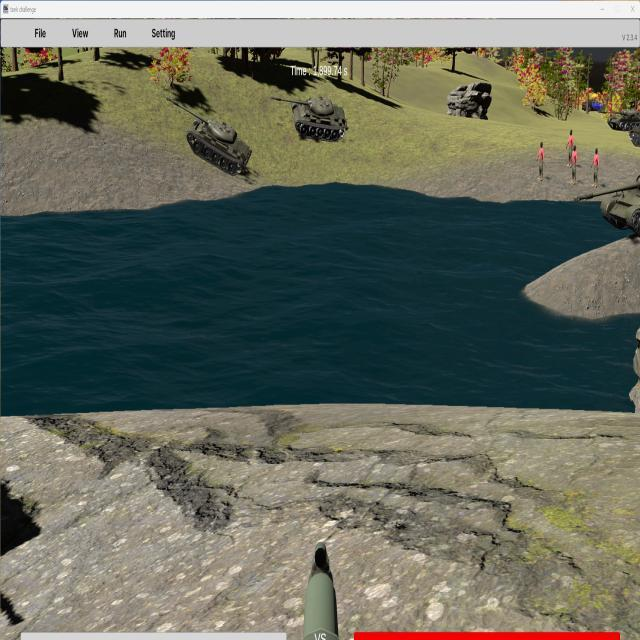Tank: (164, 96, 252, 178), (576, 163, 640, 243), (270, 95, 348, 143), (602, 108, 640, 131), (629, 120, 640, 148)
